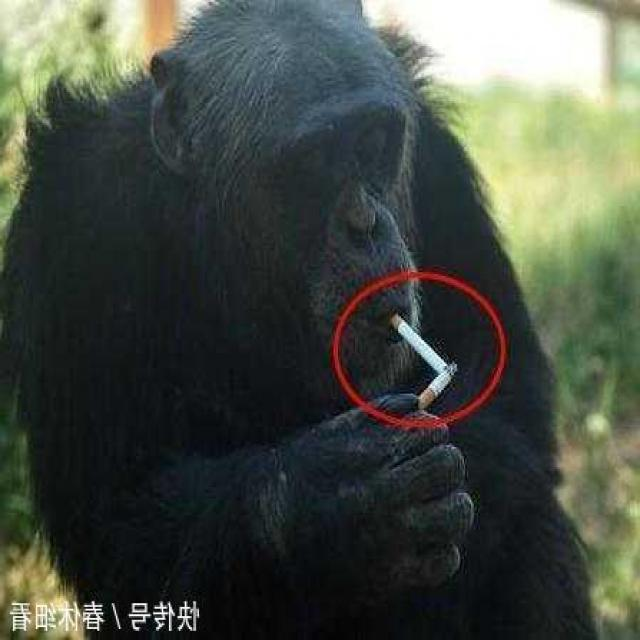smoking: (385, 312, 453, 370), (414, 359, 461, 411)
